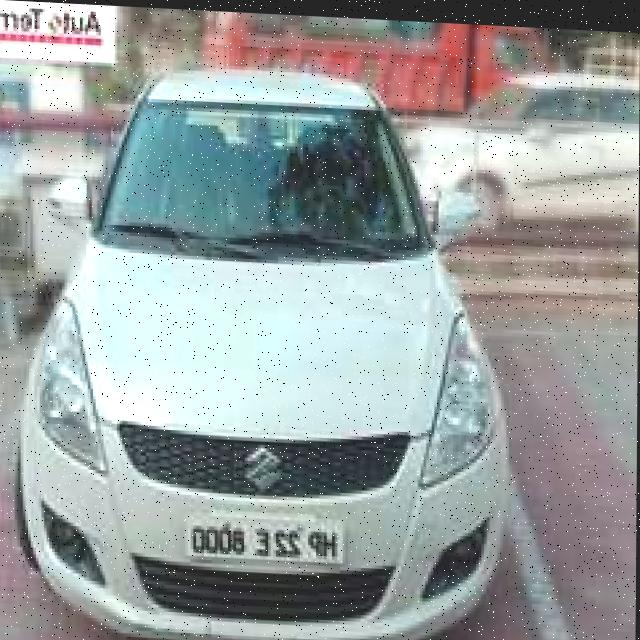plate: (183, 505, 346, 568)
